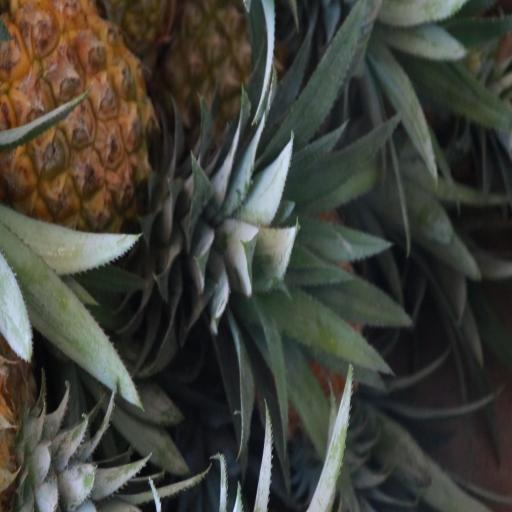Pineapple - v8 v1: (1, 0, 180, 236)
